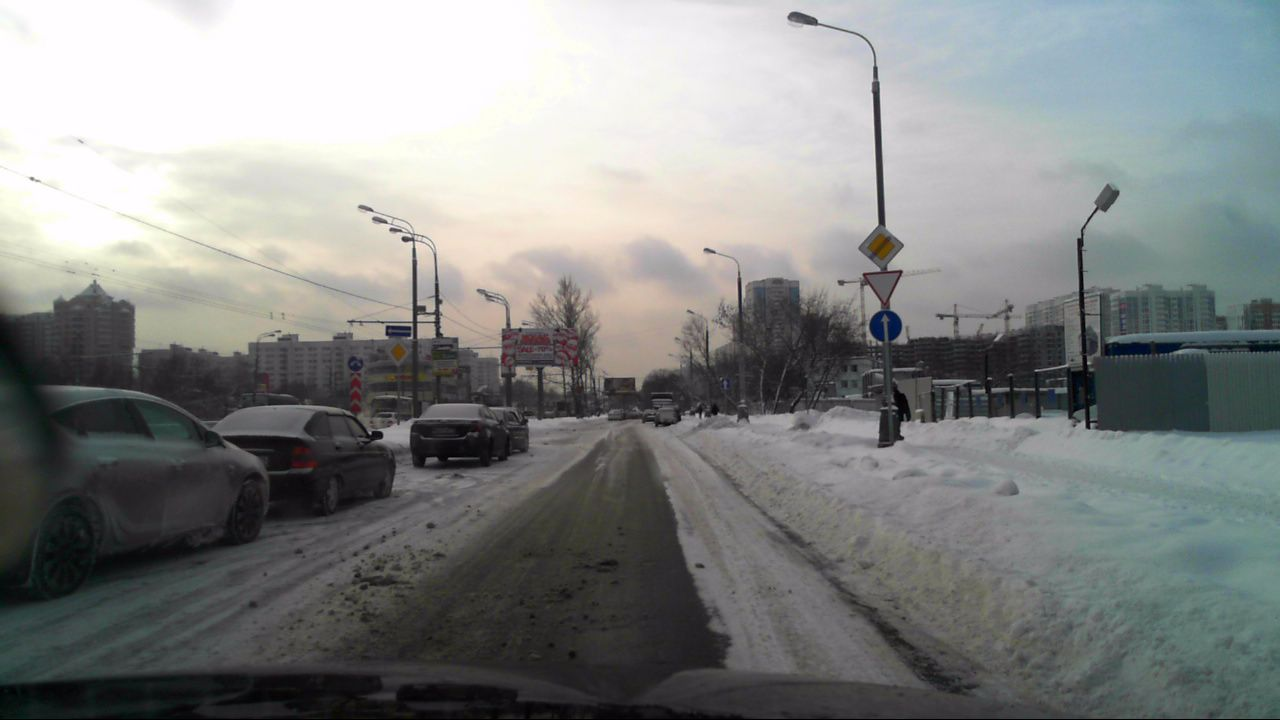main road: (856, 223, 905, 270)
